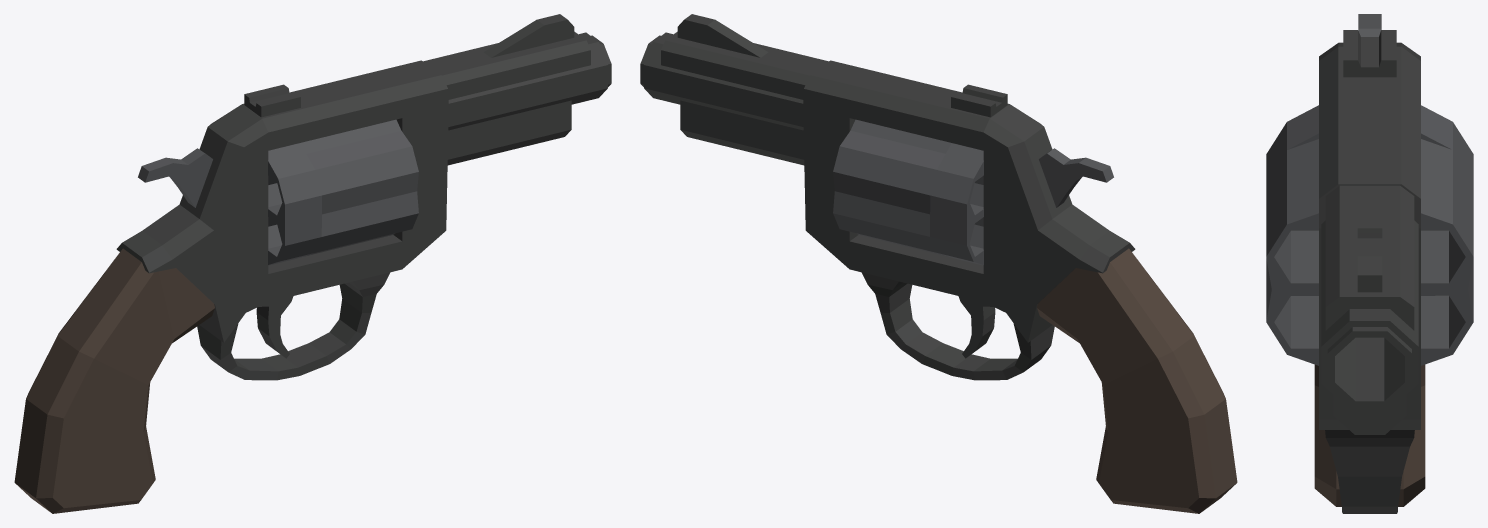
File: Revolver_2.glb
3 renders of one model, left to right at view 1: azimuth 30°, elevation 25°; view 2: azimuth 150°, elevation 25°; view 3: azimuth 270°, elevation 25°, orthographic. The views are drawn at different scales.
Visible parts, largest first — view 1: Revolver_4; view 2: Revolver_4; view 3: Revolver_4.
Boxes of the visible parts, x1,y1,x2,y2 form: Revolver_4: (14,14,611,513); Revolver_4: (640,14,1237,513); Revolver_4: (1266,14,1473,513).
Size of the model in its own units: 1.47 by 0.9151 by 0.2944.
